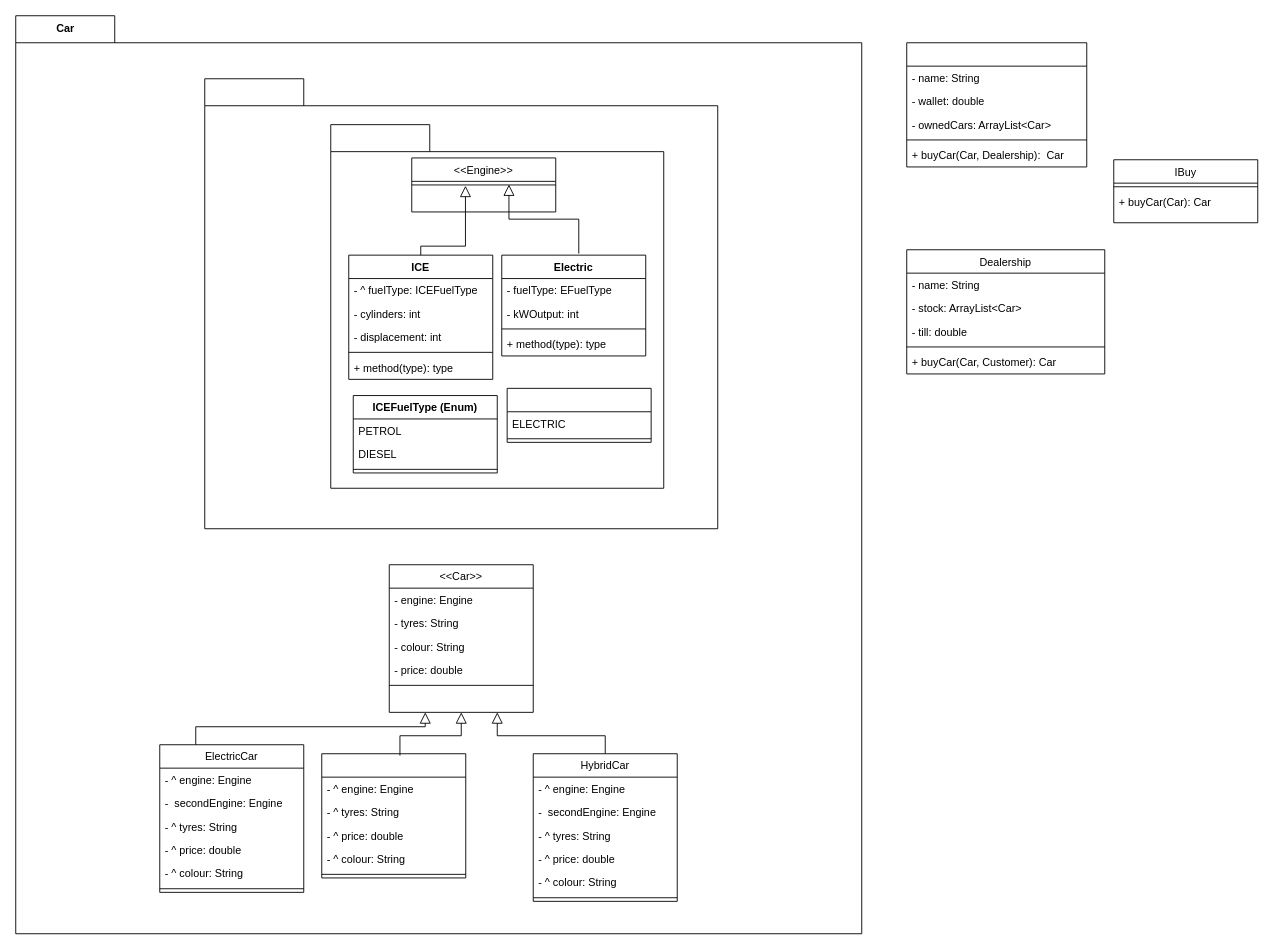
The diagram is 1274 pixels wide and 950 high, and some of its shapes have lost their labels. The shapes that lost their labels are listed below. From the top down, each one's box as (x1, y1, x2, y2) in pixels, then its label:
(906, 42, 1087, 167): Customer
(204, 78, 718, 529): Parts
(330, 124, 664, 488): Engine
(506, 387, 651, 442): EFuelType (Enum)
(321, 753, 466, 878): ICECar
